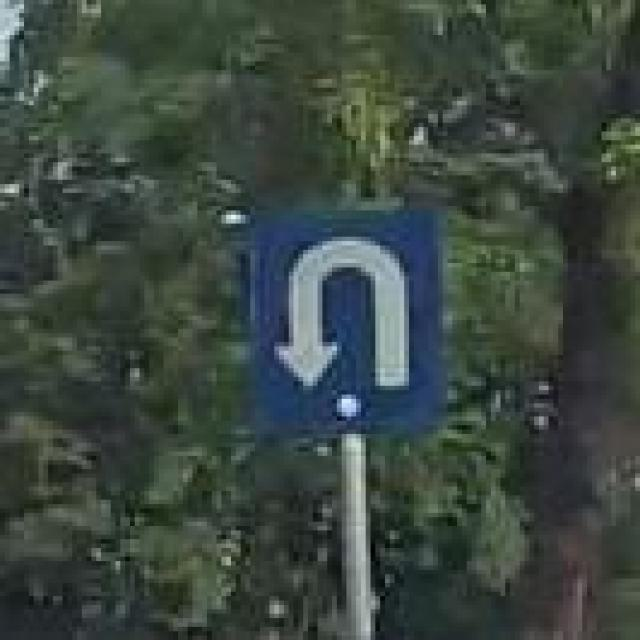U-turn: (252, 212, 445, 428)
